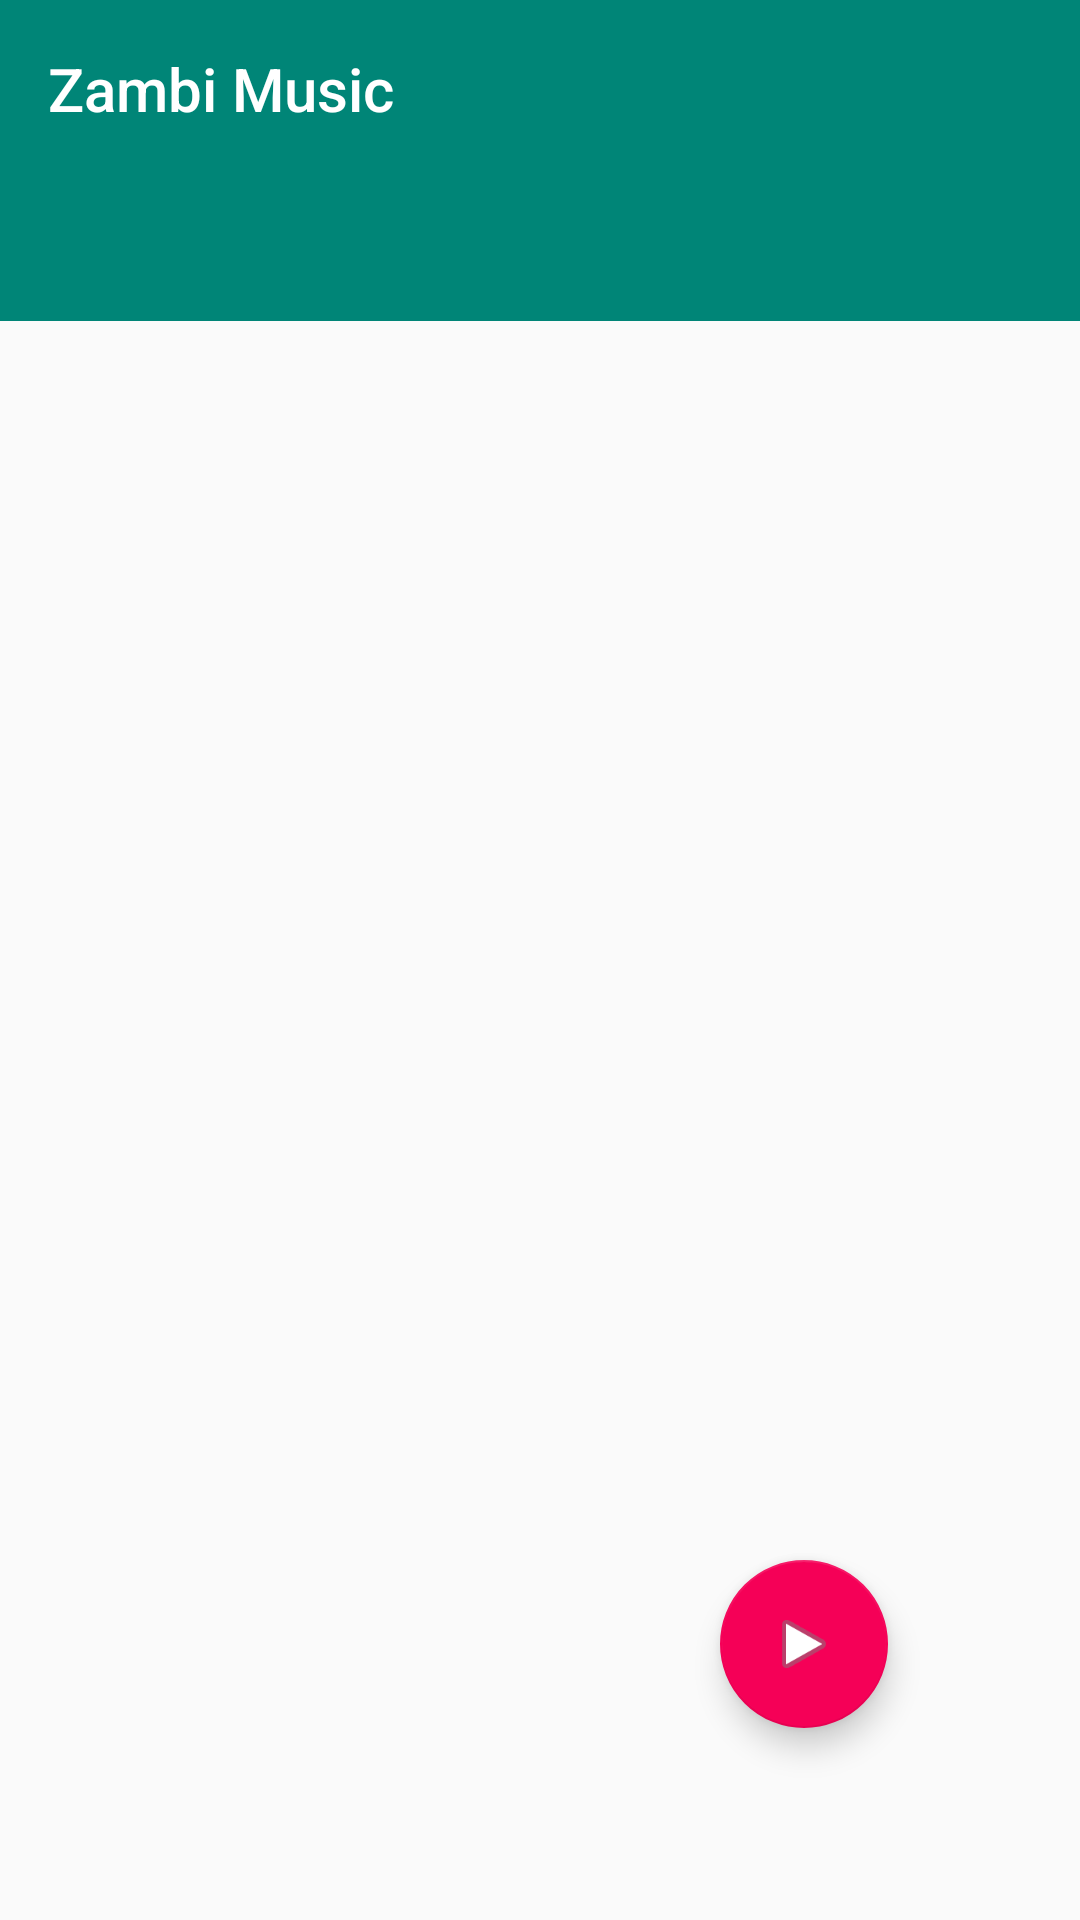

Icon bounding boxes for this 1080w x 1920h phone screenshot, format [x1,y1,x2,y2]:
play: [720,1560,888,1728]
